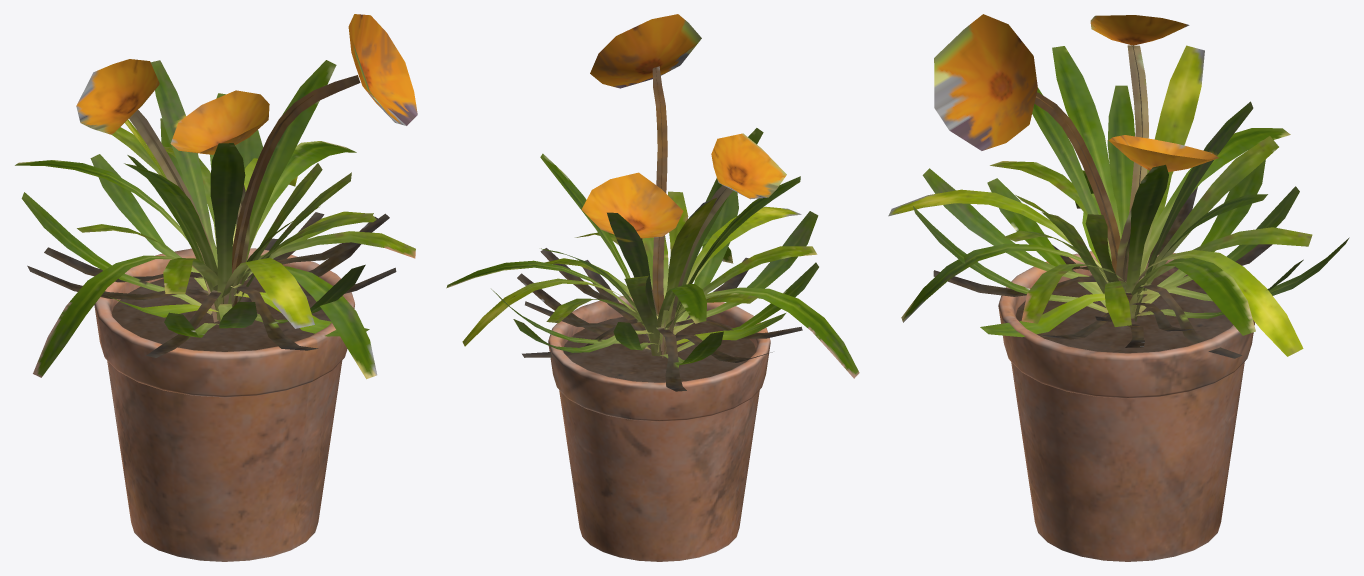
The model's file is SM_Flowerpot_06.fbx.
3 renders of one model, left to right at view 1: azimuth 30°, elevation 25°; view 2: azimuth 150°, elevation 25°; view 3: azimuth 270°, elevation 25°, orthographic. The views are drawn at different scales.
Visible parts, largest first — view 1: SM_Flowerpot_06_LOD0; view 2: SM_Flowerpot_06_LOD0; view 3: SM_Flowerpot_06_LOD0.
Part boxes in pixels (<box>): SM_Flowerpot_06_LOD0: <box>15,14,417,561</box>; SM_Flowerpot_06_LOD0: <box>446,14,859,561</box>; SM_Flowerpot_06_LOD0: <box>888,14,1349,561</box>.
Size of the model in its own units: 44.74 by 44.95 by 57.29.
